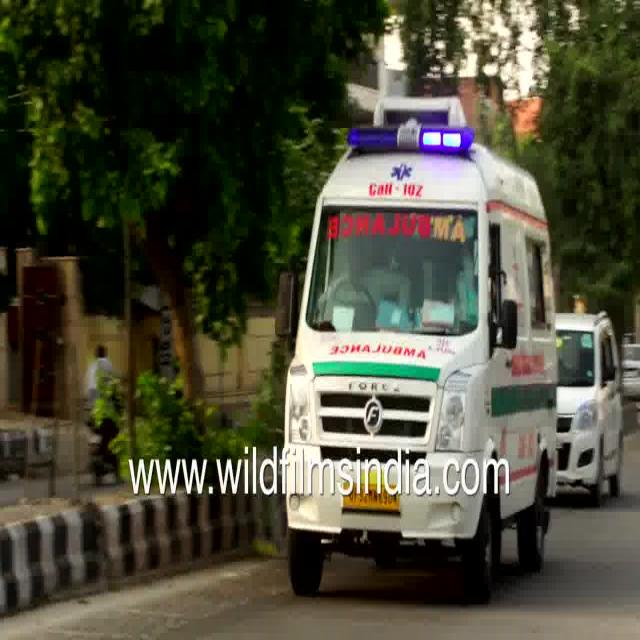ambulance: (270, 90, 573, 438)
